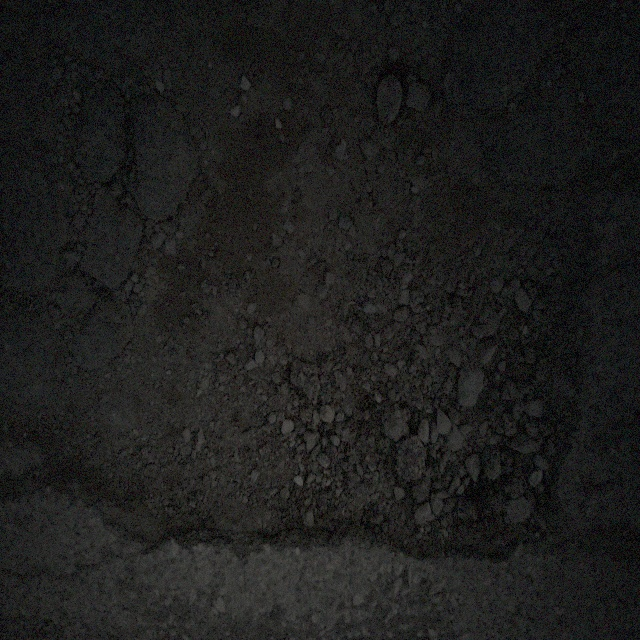pothole: (187, 80, 600, 594)
